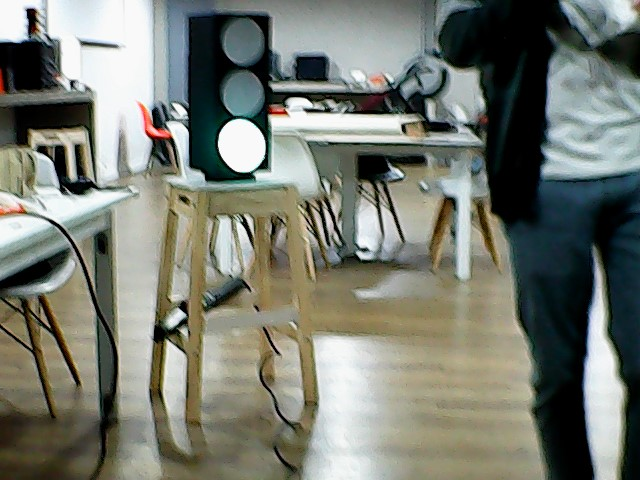verde: (184, 8, 278, 188)
